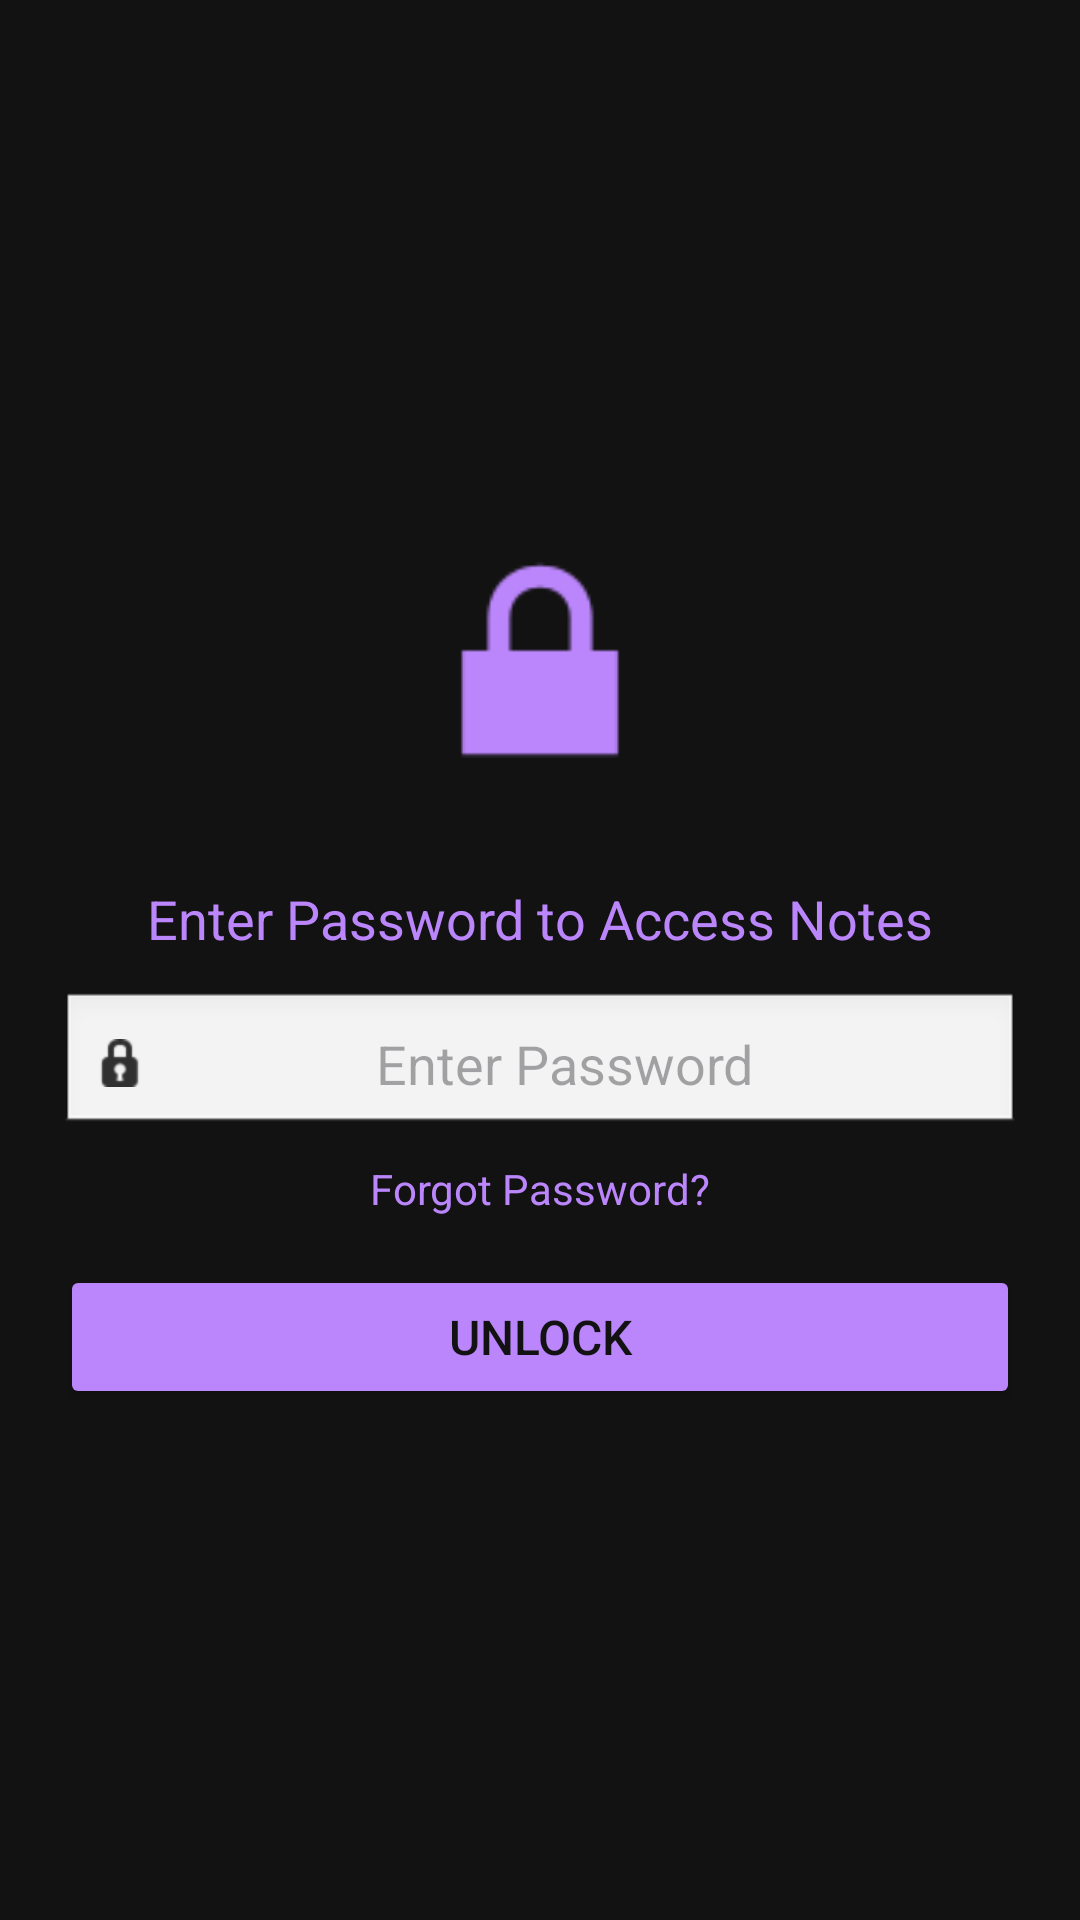

Locate icon controls on the screen. Image size 1080 x 1920, boxes as box(x1, y1, x2, y2).
Lock Icon: box(461, 563, 619, 757)
